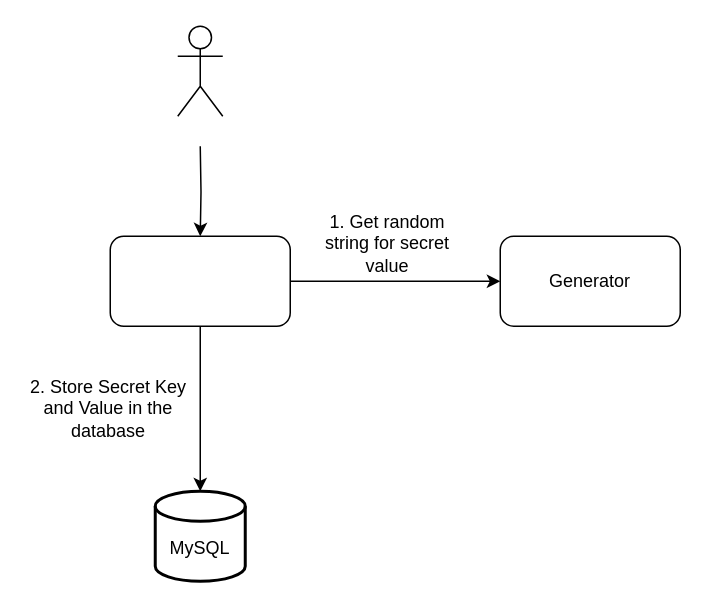
Some shapes in this 707 by 609 pixel diagram are drawn without their labels. The centre of each missing label's shape, as x and y in pixels:
Fortify: point (199, 280)
User: point (199, 70)
